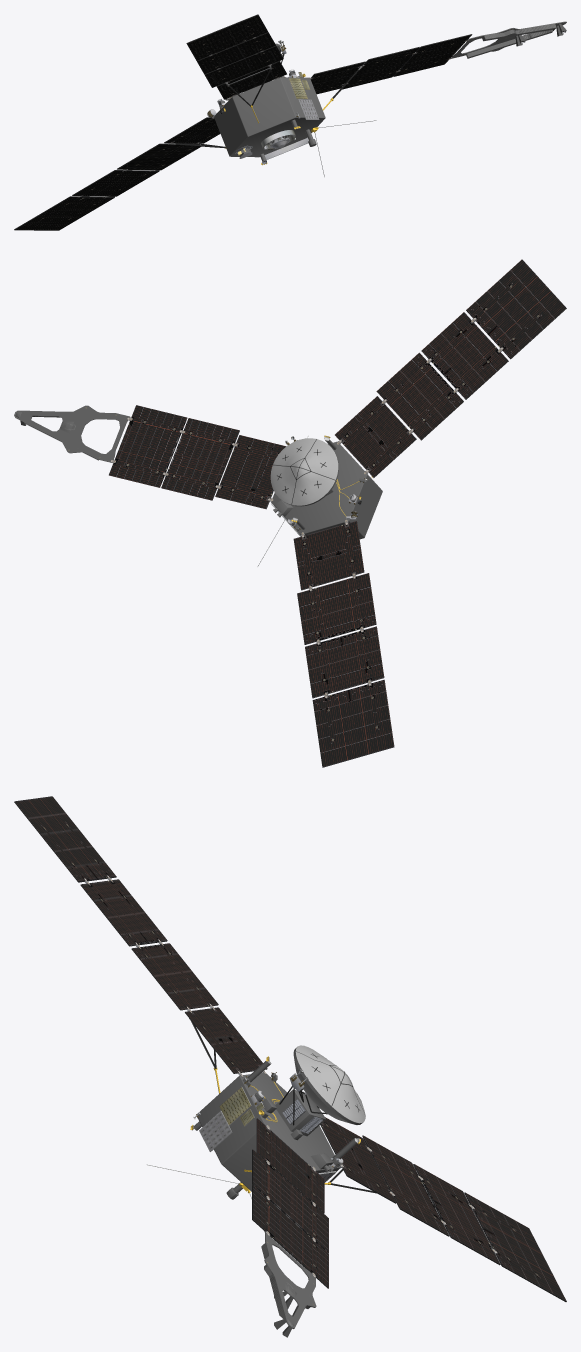
Rendered from juno.glb.
3 renders of one model, top to bottom at view 1: azimuth 30°, elevation 25°; view 2: azimuth 150°, elevation 25°; view 3: azimuth 270°, elevation 25°, orthographic. The views are drawn at different scales.
Parts seen in each view (by area): view 1: solar_panels, _body, tex_01, black_krinkle, silver_foil; view 2: shiny_panels, _body, dish_top, solar_panels, black_krinkle, tex_01; view 3: shiny_panels, _body, tex_01, dish_top, silver_foil, black_krinkle, solar_panels, dish_bottom.
Boxes of the visible parts, x1=… form: solar_panels: x1=14, y1=15, x2=566, y2=230; _body: x1=214, y1=77, x2=325, y2=157; tex_01: x1=78, y1=23, x2=566, y2=197; black_krinkle: x1=14, y1=14, x2=471, y2=229; silver_foil: x1=170, y1=65, x2=362, y2=161; shiny_panels: x1=109, y1=259, x2=566, y2=767; _body: x1=271, y1=441, x2=382, y2=539; dish_top: x1=270, y1=438, x2=338, y2=505; solar_panels: x1=14, y1=405, x2=129, y2=462; black_krinkle: x1=109, y1=308, x2=566, y2=767; tex_01: x1=20, y1=317, x2=502, y2=698; shiny_panels: x1=15, y1=796, x2=566, y2=1301; _body: x1=197, y1=1072, x2=340, y2=1191; tex_01: x1=84, y1=875, x2=497, y2=1337; dish_top: x1=295, y1=1045, x2=365, y2=1123; silver_foil: x1=189, y1=1018, x2=356, y2=1199; black_krinkle: x1=14, y1=801, x2=566, y2=1301; solar_panels: x1=261, y1=1232, x2=316, y2=1328; dish_bottom: x1=293, y1=1047, x2=363, y2=1124.
Bounding box in the file's own units: 95.21 × 70.82 × 70.82.
16 materials, 8 textured.
